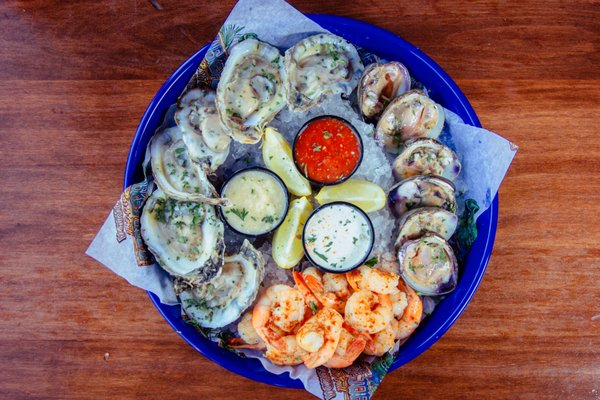curry: (3, 0, 597, 395)
